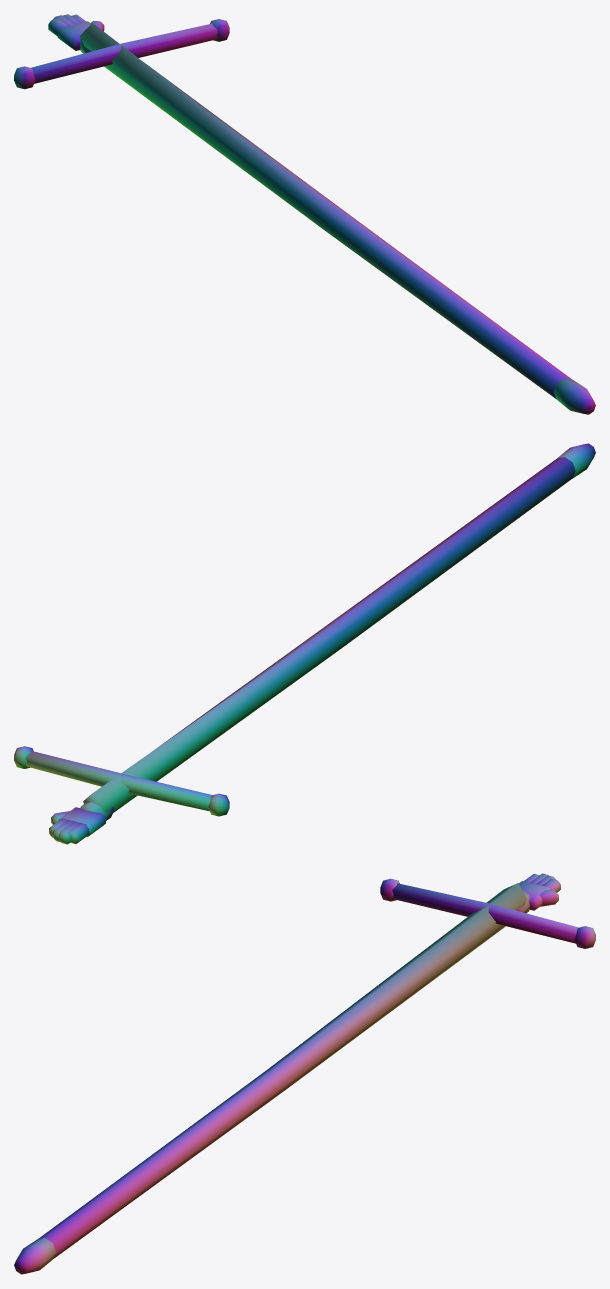
Rendered from SM_MonWeapon_StandardPole.fbx.
3 views of the same model, one above another, from view 1: azimuth 30°, elevation 25°; view 2: azimuth 150°, elevation 25°; view 3: azimuth 330°, elevation 25° (orthographic).
Parts seen in each view (by area): view 1: SM_MonWeapon_StandardPole; view 2: SM_MonWeapon_StandardPole; view 3: SM_MonWeapon_StandardPole.
Part boxes in pixels (bbox=[...]): SM_MonWeapon_StandardPole: bbox=[14, 14, 595, 414]; SM_MonWeapon_StandardPole: bbox=[14, 443, 595, 844]; SM_MonWeapon_StandardPole: bbox=[14, 873, 595, 1274].
Size of the model in its own units: 0.715 by 0.1111 by 3.05.
